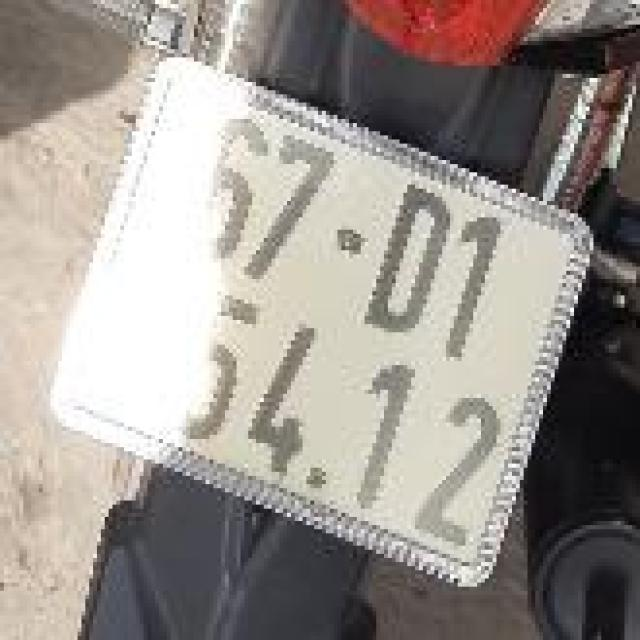1: (330, 350, 430, 521), (425, 204, 511, 373)
2: (405, 381, 512, 557)
4: (235, 314, 344, 486)
5: (161, 277, 273, 455)
6: (175, 103, 279, 274)
7: (234, 124, 343, 306)
D: (356, 172, 464, 355)
